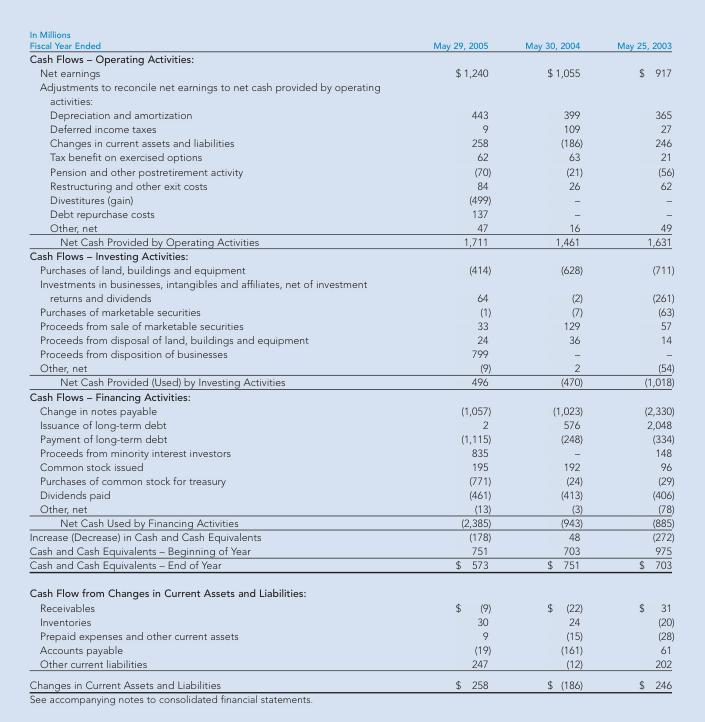table: (28, 28, 673, 691)
table column: (28, 28, 399, 691), (399, 28, 507, 691), (507, 28, 599, 691), (599, 28, 673, 691)
table column header: (28, 28, 673, 51)
table projected row header: (28, 79, 673, 107), (28, 578, 673, 600), (28, 388, 673, 403), (28, 51, 673, 65), (28, 248, 673, 262)
table row: (28, 79, 673, 107), (28, 276, 673, 304), (28, 28, 673, 51), (28, 578, 673, 600), (28, 557, 673, 578), (28, 656, 673, 674), (28, 674, 673, 691), (28, 191, 673, 206), (28, 388, 673, 403), (28, 416, 673, 431), (28, 627, 673, 642), (28, 51, 673, 65), (28, 65, 673, 79), (28, 107, 673, 121), (28, 121, 673, 135), (28, 135, 673, 149), (28, 149, 673, 163), (28, 163, 673, 177), (28, 177, 673, 191), (28, 206, 673, 220), (28, 220, 673, 234), (28, 234, 673, 248), (28, 248, 673, 262), (28, 262, 673, 276), (28, 304, 673, 318), (28, 318, 673, 332), (28, 332, 673, 346), (28, 346, 673, 360), (28, 360, 673, 374), (28, 374, 673, 388), (28, 431, 673, 445), (28, 445, 673, 459), (28, 459, 673, 473), (28, 473, 673, 487), (28, 487, 673, 501), (28, 501, 673, 515), (28, 515, 673, 529), (28, 529, 673, 543), (28, 543, 673, 557), (28, 613, 673, 627), (28, 642, 673, 656), (28, 403, 673, 416), (28, 600, 673, 613)
